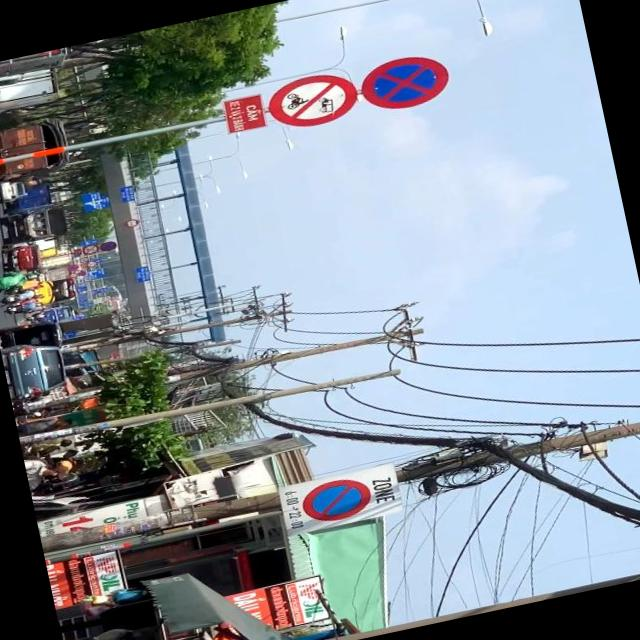P-104: (262, 68, 359, 134)
P-130: (357, 51, 452, 116)
P-131a: (298, 474, 372, 526)
